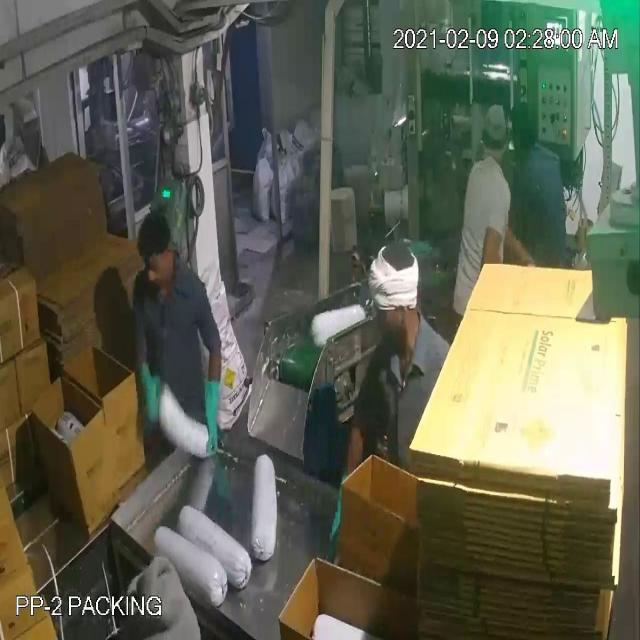Gloves: (32, 84, 213, 418)
